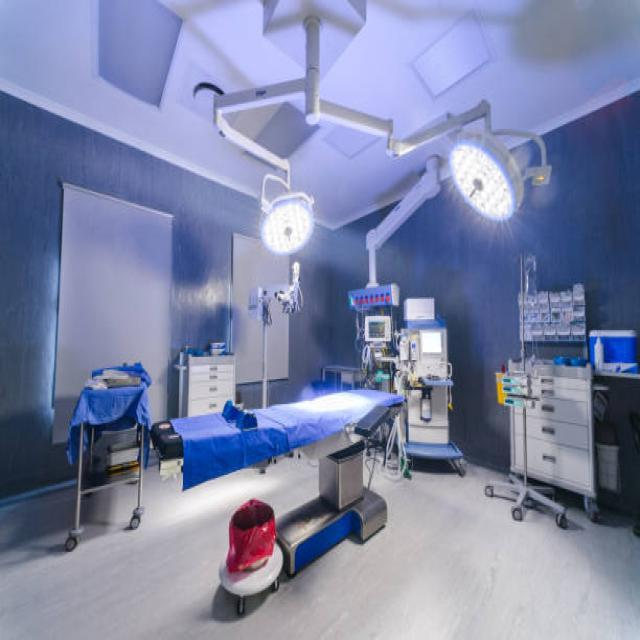Monitor: (67, 347, 159, 572), (216, 498, 281, 624)
Saline Stand: (481, 247, 578, 542)
bed: (150, 376, 404, 580)
